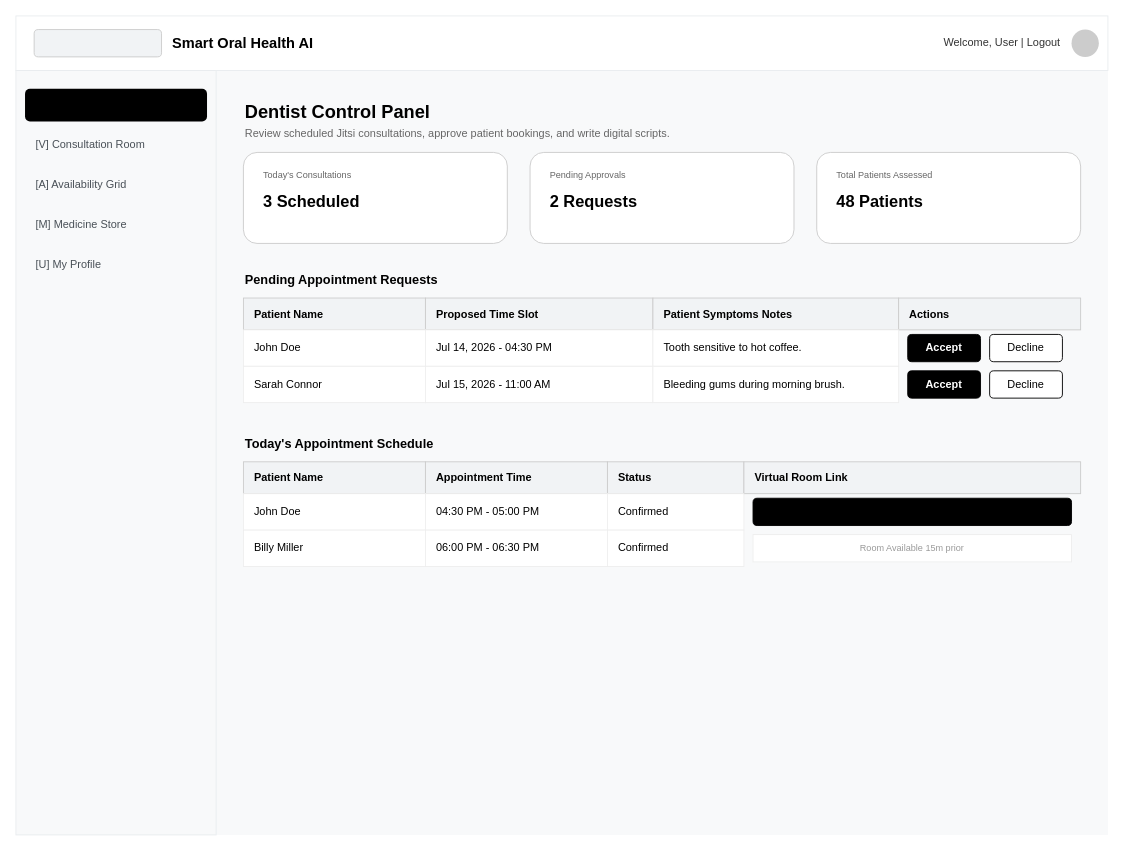
The diagram is 1124 pixels wide and 851 high, and some of its shapes have lost their labels. Each missing label, with the centre of its shape:
"[D] Dashboard" belongs at point (116, 104).
"Join Jitsi Video Room [Consultation Room]" belongs at point (912, 511).
"Tooth Mascot [Animated]" belongs at point (97, 43).
